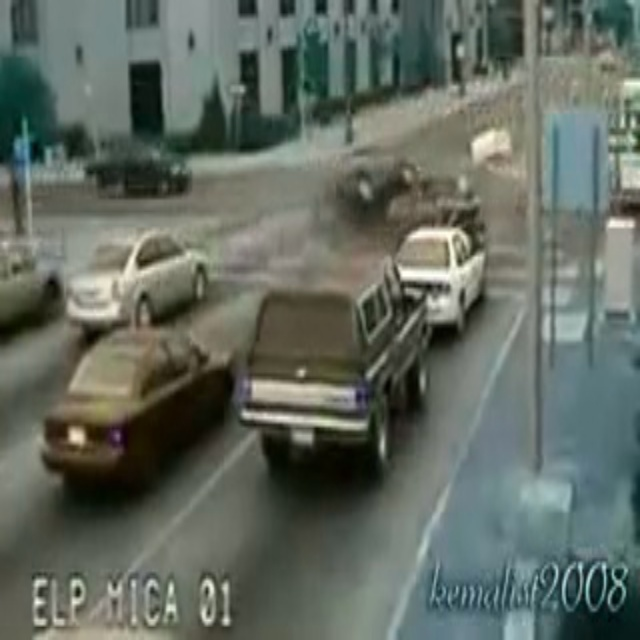acc: (304, 135, 478, 253)
